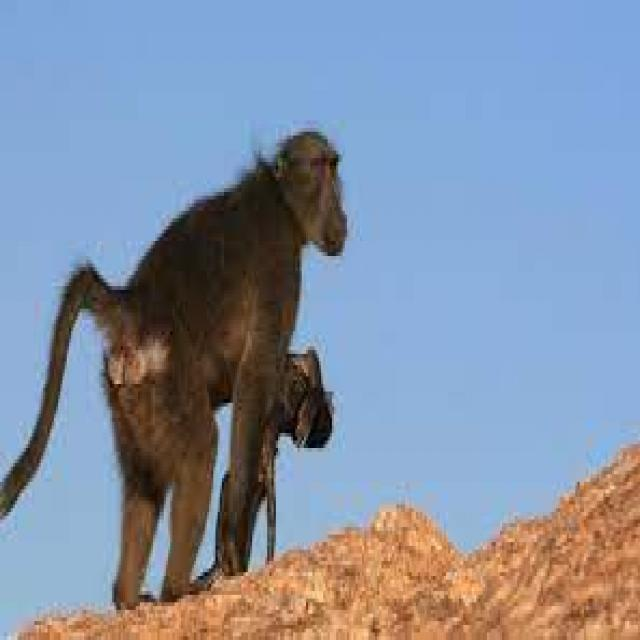monkey: (82, 99, 351, 592)
